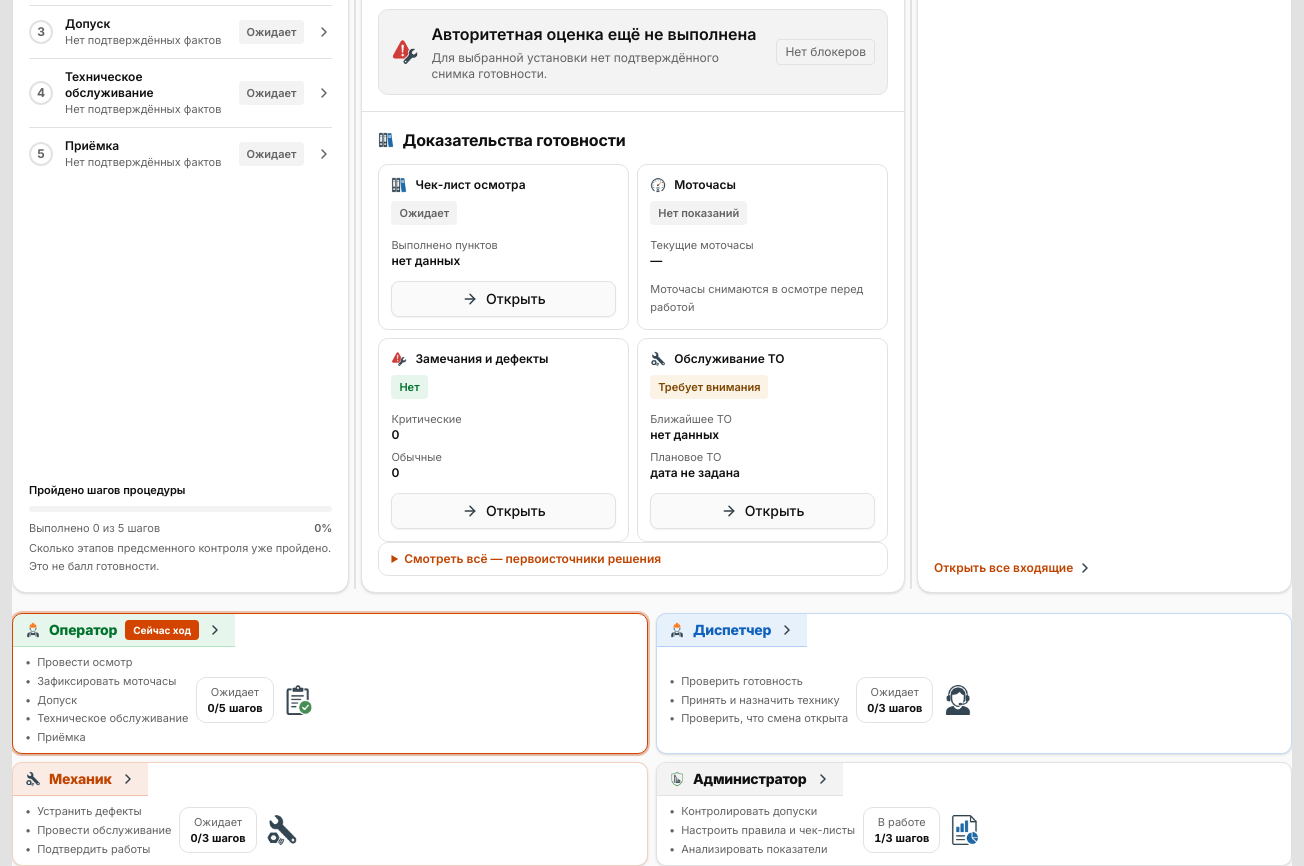
Роли: подсказка «что делать сейчас» (W61) › нажатие на карточку роли открывает панель подсказки
(page scrolled)
Check: the element "Что делать сейчас: Оператор" is not shown
Click the button with aria-label "Оператор: что делать сейчас": coordinates (124, 630) left=13, top=614, right=647, bottom=753
(page scrolled)
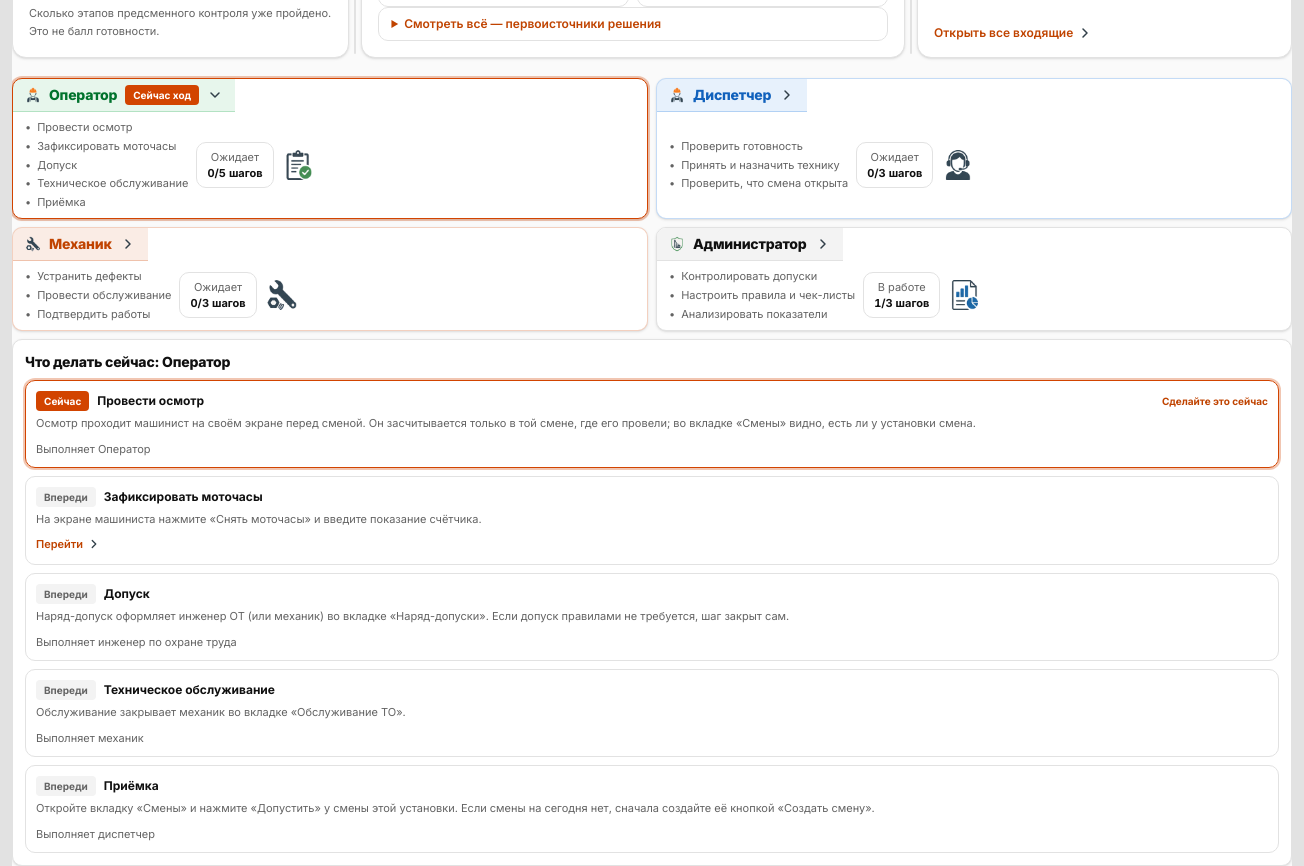
Check: the element "Что делать сейчас: Оператор" is shown, box left=12, top=339, right=1292, bottom=865
